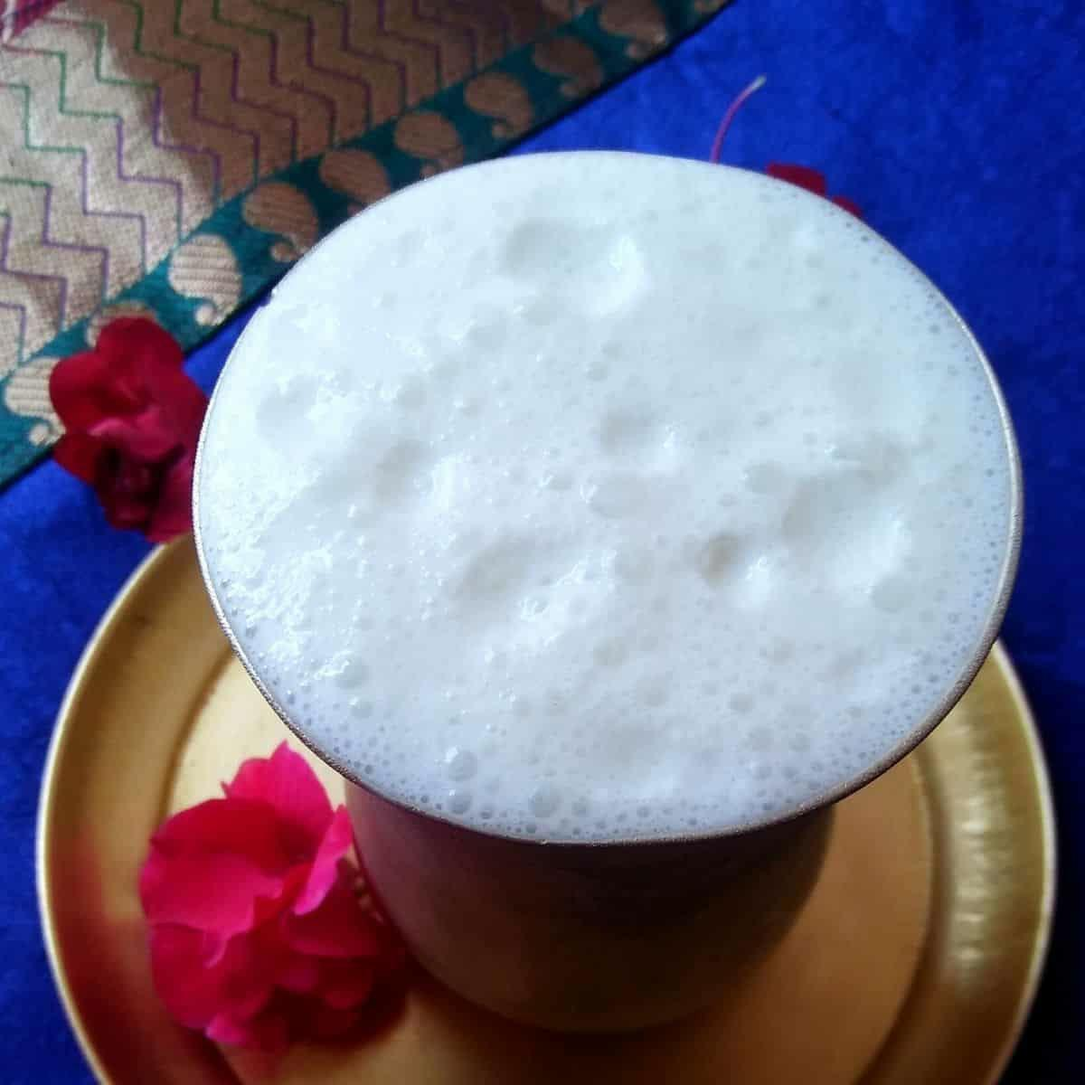Lassi: (192, 149, 1022, 839)
